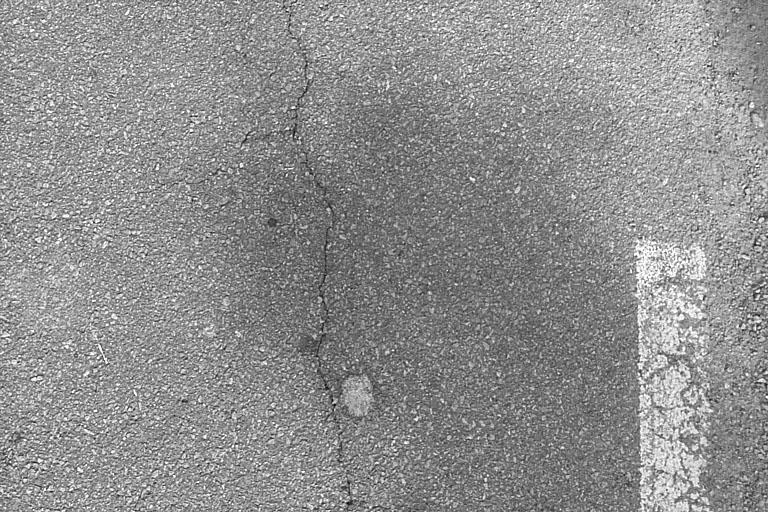crack: (274, 1, 362, 509)
